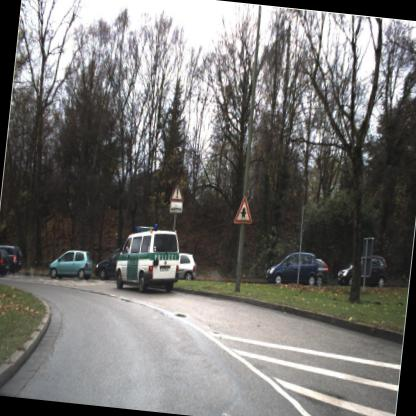danger: (230, 191, 256, 228), (168, 177, 186, 207)
